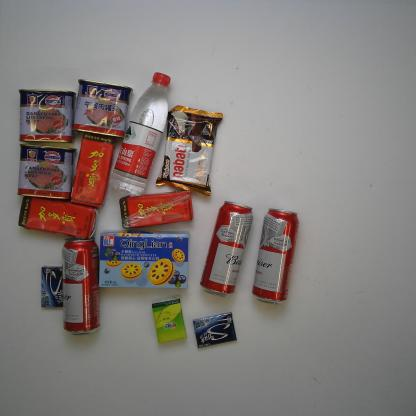Alcohol: (247, 205, 308, 305), (199, 197, 254, 303), (57, 238, 112, 337)
Canned Food: (13, 82, 80, 148), (73, 78, 133, 142), (16, 141, 74, 201)
Dessert: (154, 101, 231, 196), (95, 229, 191, 294)
Drink: (109, 69, 166, 197), (18, 188, 100, 242), (65, 131, 119, 209), (116, 188, 197, 234)
Gum: (191, 311, 239, 348), (40, 262, 70, 310)
Tissue: (150, 296, 195, 344)
